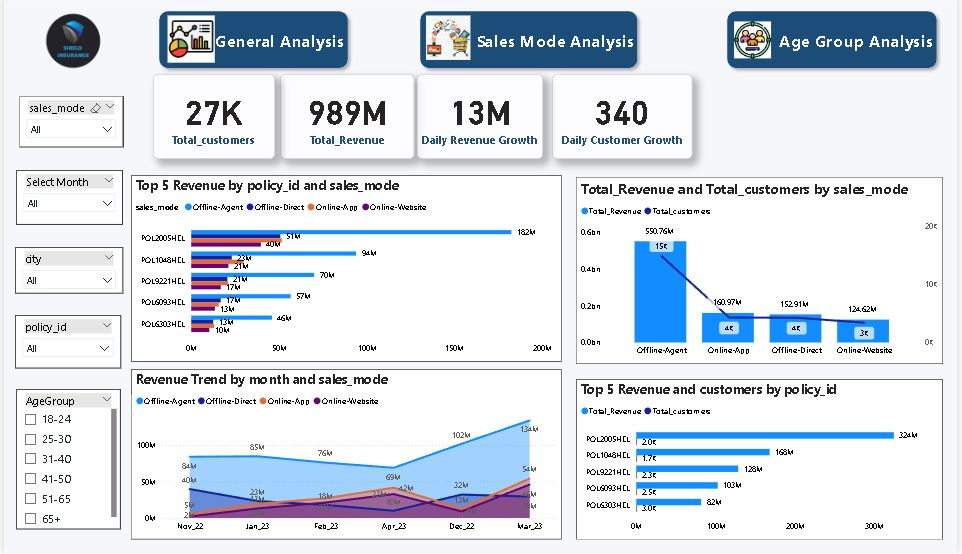

Layout of this report page (visuals, bound fields, positions):
{"tool":"powerbi","page":{"name":"Sales Mode Analysis","canvas":[1392,815],"ordinal":1},"visuals":[{"type":"card","fields":{"Values":["dim_customer.Total_Revenue"]},"box":[402.7,113.9,195.7,123.5],"z":0},{"type":"card","fields":{"Values":["dim_customer.Total_customers"]},"box":[218.2,113.9,178.1,123.5],"z":1000},{"type":"card","fields":{"Values":["dim_customer.Daily Customers Growth"]},"box":[800.6,113.9,205.4,123.5],"z":2000},{"type":"card","fields":{"Values":["dim_customer.Daily Revenue Growth"]},"box":[603.2,113.9,184.5,123.5],"z":3000},{"type":"slicer","fields":{"Values":["dim_date.mmm_yy"]},"box":[17.9,254.3,156.5,79.9],"z":4000},{"type":"slicer","fields":{"Values":["dim_customer.city"]},"box":[16.3,366.8,158.1,68.5],"z":5000},{"type":"slicer","fields":{"Values":["fact_premiums.AgeGroup"]},"box":[17.9,573.8,153.2,205.4],"z":6000},{"type":"slicer","fields":{"Values":["fact_premiums.sales_mode"]},"box":[21.2,146.7,153.2,75],"z":7000},{"type":"slicer","fields":{"Values":["dim_policies.policy_id"]},"box":[16.3,466.2,154.8,78.2],"z":8000},{"type":"image","box":[16,17.6,170.1,96.3],"z":10000},{"type":"shape","box":[218.2,12.8,293.6,101.1],"z":11000},{"type":"shape","box":[598.4,12.8,335.3,101.1],"z":12000},{"type":"shape","box":[1047.6,12.8,324.1,101.1],"z":13000},{"type":"image","box":[208.6,24.1,128.3,78.6],"z":14000},{"type":"image","box":[580.8,24.1,134.8,75.4],"z":15000},{"type":"image","box":[1005.9,32.1,173.3,64.2],"z":16000},{"type":"lineClusteredColumnComboChart","fields":{"Category":["fact_premiums.sales_mode"],"Y":["dim_customer.Total_Revenue"],"Y2":["dim_customer.Total_customers"]},"box":[835.9,264.7,535.8,272.7],"z":17000},{"type":"clusteredBarChart","title":"Top 5 Revenue and  customers by policy_id","fields":{"Category":["dim_policies.policy_id"],"Y":["dim_customer.Total_Revenue","dim_customer.Total_customers"]},"box":[835.9,559.9,535.8,234.2],"z":18000},{"type":"clusteredBarChart","title":"Top 5 Revenue by policy_id and sales_mode","fields":{"Y":["dim_customer.Total_Revenue"],"Category":["dim_policies.policy_id"],"Series":["fact_premiums.sales_mode"]},"box":[186.1,261.5,628.9,272.7],"z":19000},{"type":"lineChart","title":"Revenue Trend by month and sales_mode","fields":{"Category":["dim_date.mmm_yy"],"Series":["fact_premiums.sales_mode"],"Y":["dim_customer.Total_Revenue"]},"box":[186.1,545.5,628.9,248.7],"z":20000}]}

Visuals, with their boxes in screenshot pixels (x1, y1, x2, y2), scaled from the page's 1392x815 canvas onto the 962x554 screenshot:
card - dim_customer.Total_Revenue: box(278, 77, 414, 161)
card - dim_customer.Total_customers: box(151, 77, 274, 161)
card - dim_customer.Daily Customers Growth: box(553, 77, 695, 161)
card - dim_customer.Daily Revenue Growth: box(417, 77, 544, 161)
slicer - dim_date.mmm_yy: box(12, 173, 121, 227)
slicer - dim_customer.city: box(11, 249, 121, 296)
slicer - fact_premiums.AgeGroup: box(12, 390, 118, 530)
slicer - fact_premiums.sales_mode: box(15, 100, 121, 151)
slicer - dim_policies.policy_id: box(11, 317, 118, 370)
image: box(11, 12, 129, 77)
shape: box(151, 9, 354, 77)
shape: box(414, 9, 645, 77)
shape: box(724, 9, 948, 77)
image: box(144, 16, 233, 70)
image: box(401, 16, 495, 68)
image: box(695, 22, 815, 65)
lineClusteredColumnComboChart - fact_premiums.sales_mode x dim_customer.Total_Revenue: box(578, 180, 948, 365)
"Top 5 Revenue and  customers by policy_id" clusteredBarChart: box(578, 381, 948, 540)
"Top 5 Revenue by policy_id and sales_mode" clusteredBarChart: box(129, 178, 563, 363)
"Revenue Trend by month and sales_mode" lineChart: box(129, 371, 563, 540)
